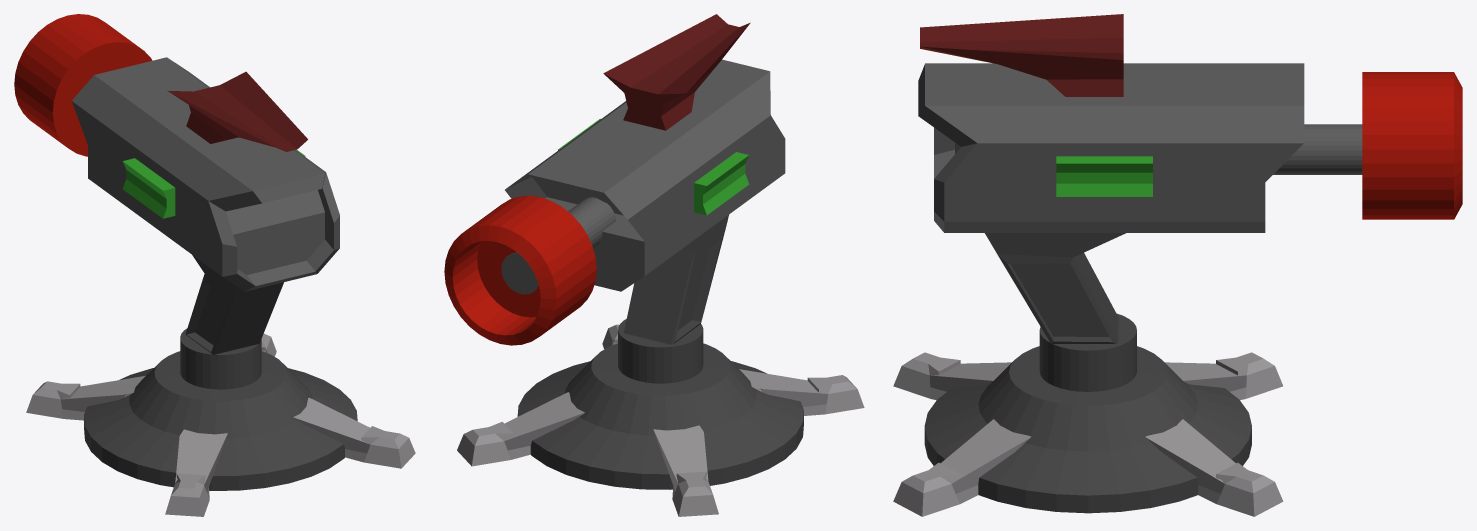
The model's file is turretcolor.fbx.
3 renders of one model, left to right at view 1: azimuth 30°, elevation 25°; view 2: azimuth 150°, elevation 25°; view 3: azimuth 270°, elevation 25°, orthographic. The views are drawn at different scales.
Parts seen in each view (by area): view 1: Cube.001, Cylinder, Cube, Cylinder.002, Cube.004, Cube.003, Cube.002; view 2: Cylinder, Cube.001, Cylinder.002, Cube, Cube.004, Cube.003, Cylinder.001, Cube.002; view 3: Cube.001, Cylinder, Cube, Cylinder.002, Cube.004, Cube.003, Cube.002, Cylinder.001.
Boxes of the visible parts, <box> form: Cube.001: <box>72,57,339,291</box>; Cylinder: <box>84,328,357,490</box>; Cube: <box>26,333,415,516</box>; Cylinder.002: <box>14,14,152,156</box>; Cube.004: <box>167,71,307,151</box>; Cube.003: <box>185,255,283,355</box>; Cube.002: <box>122,149,305,218</box>; Cylinder: <box>517,319,803,489</box>; Cube.001: <box>505,59,785,291</box>; Cylinder.002: <box>444,195,596,345</box>; Cube: <box>457,324,864,516</box>; Cube.004: <box>603,14,750,130</box>; Cube.003: <box>624,215,728,344</box>; Cylinder.001: <box>501,197,616,294</box>; Cube.002: <box>558,118,749,215</box>; Cube.001: <box>918,63,1304,232</box>; Cylinder: <box>924,313,1251,513</box>; Cube: <box>893,352,1283,516</box>; Cylinder.002: <box>1362,72,1462,219</box>; Cube.004: <box>920,14,1123,96</box>; Cube.003: <box>985,233,1125,344</box>; Cube.002: <box>1056,156,1152,196</box>; Cylinder.001: <box>1273,124,1362,174</box>.
Bounding box in the file's own units: 322 × 419 × 531.
